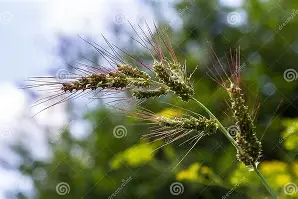weed: (46, 45, 198, 108), (206, 45, 268, 171), (144, 111, 220, 141)
